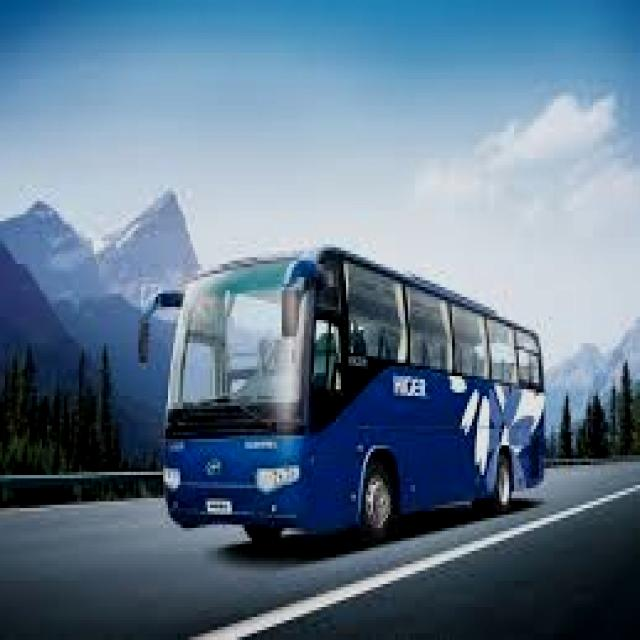bus: (133, 241, 575, 546)
